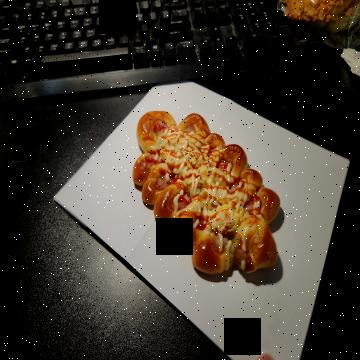pizza_bread: (136, 112, 282, 282)
